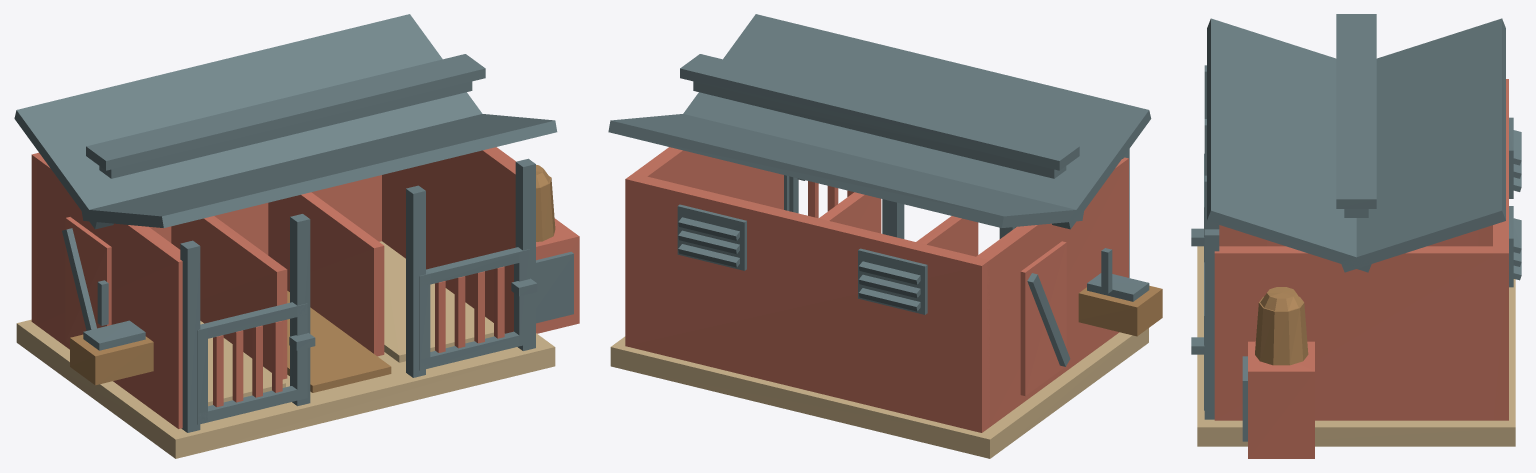
Rendered from Milking-Shed.glb.
The picture shows the model from 3 angles, left to right: view 1: azimuth 30°, elevation 25°; view 2: azimuth 150°, elevation 25°; view 3: azimuth 270°, elevation 25°; orthographic projection.
Parts seen in each view (by area): view 1: milking-shed-static-milking-shed-weathered-timber, milking-shed-static-milking-shed-galvanized-roof, milking-shed-static-milking-shed-dark-iron, milking-shed-static-milking-shed-stone-curb, milking-shed-static-milking-shed-clean-service-fixtures; view 2: milking-shed-static-milking-shed-weathered-timber, milking-shed-static-milking-shed-galvanized-roof, milking-shed-static-milking-shed-stone-curb, milking-shed-static-milking-shed-dark-iron, milking-shed-static-milking-shed-clean-service-fixtures; view 3: milking-shed-static-milking-shed-galvanized-roof, milking-shed-static-milking-shed-weathered-timber, milking-shed-static-milking-shed-stone-curb, milking-shed-static-milking-shed-dark-iron, milking-shed-static-milking-shed-clean-service-fixtures.
Boxes of the visible parts, x1,y1,x2,y2 form: milking-shed-static-milking-shed-weathered-timber: (31,147,579,428); milking-shed-static-milking-shed-galvanized-roof: (14,14,557,229); milking-shed-static-milking-shed-dark-iron: (62,81,573,432); milking-shed-static-milking-shed-stone-curb: (16,241,555,458); milking-shed-static-milking-shed-clean-service-fixtures: (70,165,555,392); milking-shed-static-milking-shed-weathered-timber: (625,147,1128,432); milking-shed-static-milking-shed-galvanized-roof: (608,14,1151,311); milking-shed-static-milking-shed-stone-curb: (610,328,1148,458); milking-shed-static-milking-shed-dark-iron: (677,81,1149,366); milking-shed-static-milking-shed-clean-service-fixtures: (1078,285,1162,336); milking-shed-static-milking-shed-galvanized-roof: (1207,14,1521,280); milking-shed-static-milking-shed-weathered-timber: (1214,79,1508,458); milking-shed-static-milking-shed-stone-curb: (1197,246,1515,446); milking-shed-static-milking-shed-dark-iron: (1191,65,1513,441); milking-shed-static-milking-shed-clean-service-fixtures: (1255,287,1308,365).
Size of the model in its own units: 4.12 by 2.04 by 2.47.
